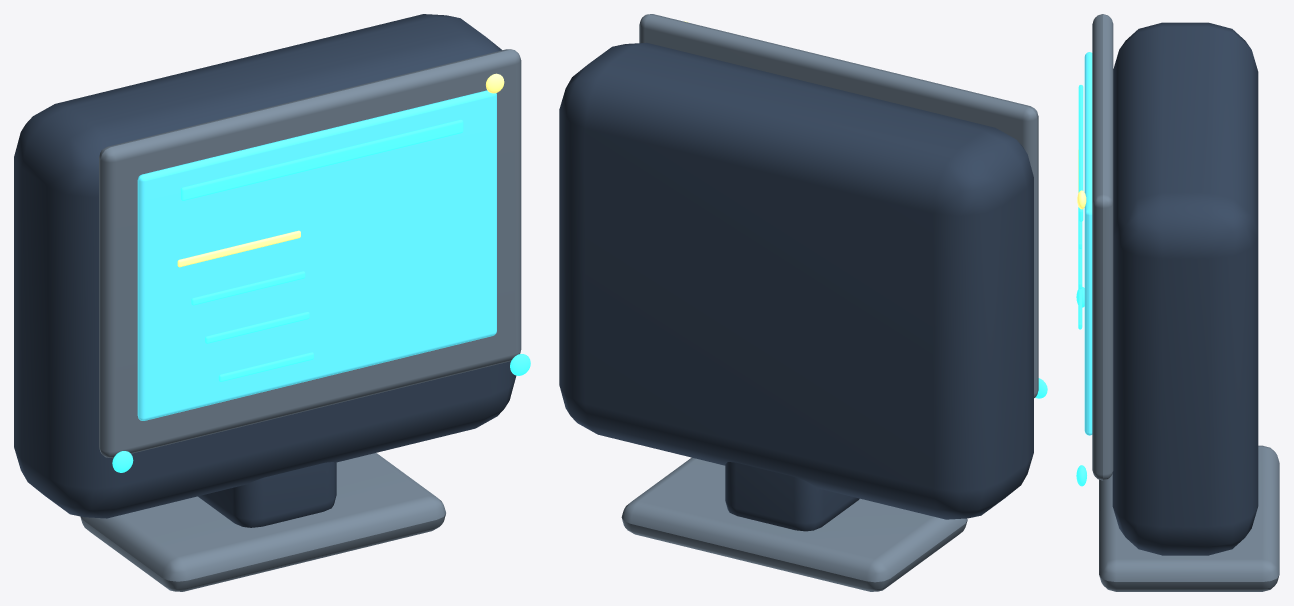
File: aurora_terminal.glb
The picture shows the model from 3 angles, left to right: view 1: azimuth 30°, elevation 25°; view 2: azimuth 150°, elevation 25°; view 3: azimuth 270°, elevation 25°; orthographic projection. The views are drawn at different scales.
Visible parts, largest first — view 1: PROP_PC | emissive Aurora glass, PROP_PC | titanium terminal housing, PROP_PC | bevelled graphite bezel, PROP_PC | flared foot, PROP_PC | stem, Aurora UI | top status bar, Aurora UI | database line, Aurora UI | database line.001, Aurora UI | database line.002, Aurora UI | database line.003; view 2: PROP_PC | titanium terminal housing, PROP_PC | flared foot, PROP_PC | bevelled graphite bezel, PROP_PC | stem; view 3: PROP_PC | titanium terminal housing, PROP_PC | flared foot, PROP_PC | bevelled graphite bezel, PROP_PC | emissive Aurora glass, Aurora UI | top status bar.
Part boxes in pixels (<box>): PROP_PC | emissive Aurora glass: <box>137,90,496,420</box>; PROP_PC | titanium terminal housing: <box>14,14,516,518</box>; PROP_PC | bevelled graphite bezel: <box>99,49,521,458</box>; PROP_PC | flared foot: <box>80,453,445,591</box>; PROP_PC | stem: <box>198,462,336,527</box>; Aurora UI | top status bar: <box>180,119,463,200</box>; Aurora UI | database line: <box>177,230,300,267</box>; Aurora UI | database line.001: <box>191,271,305,305</box>; Aurora UI | database line.002: <box>205,311,309,343</box>; Aurora UI | database line.003: <box>218,352,313,381</box>; PROP_PC | titanium terminal housing: <box>559,42,1033,519</box>; PROP_PC | flared foot: <box>621,457,967,591</box>; PROP_PC | bevelled graphite bezel: <box>639,14,1038,397</box>; PROP_PC | stem: <box>725,462,859,531</box>; PROP_PC | titanium terminal housing: <box>1112,22,1258,555</box>; PROP_PC | flared foot: <box>1099,445,1279,591</box>; PROP_PC | bevelled graphite bezel: <box>1092,14,1113,480</box>; PROP_PC | emissive Aurora glass: <box>1084,52,1092,435</box>; Aurora UI | top status bar: <box>1078,85,1083,221</box>.
Size of the model in its own units: 1.28 by 1.24 by 0.529.
